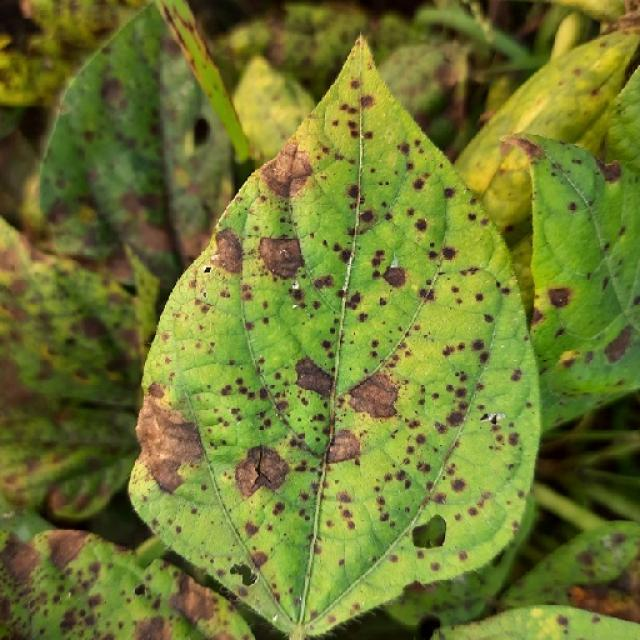Anthracnose: (43, 303, 129, 394), (135, 389, 207, 496), (260, 141, 314, 202), (234, 444, 291, 498), (42, 529, 103, 577), (2, 533, 50, 590), (346, 371, 400, 421), (356, 378, 406, 425), (258, 235, 304, 280), (293, 356, 334, 399), (210, 228, 245, 276), (148, 455, 189, 493), (326, 428, 362, 466), (602, 323, 633, 364), (77, 314, 112, 346), (502, 135, 543, 162), (132, 614, 172, 640), (234, 461, 260, 496), (230, 562, 259, 588), (59, 609, 88, 634), (382, 266, 408, 289), (546, 286, 572, 309), (600, 160, 622, 183), (312, 274, 335, 291), (146, 381, 165, 399), (370, 249, 387, 269), (250, 550, 268, 568), (243, 521, 259, 538), (359, 208, 375, 224), (441, 246, 457, 261), (347, 291, 362, 307), (450, 478, 466, 492), (359, 95, 375, 109), (336, 490, 352, 504), (346, 184, 360, 199), (290, 287, 304, 302), (414, 218, 428, 232), (413, 176, 427, 190), (133, 583, 147, 597), (507, 431, 520, 446), (397, 142, 410, 156), (556, 614, 569, 627), (471, 339, 485, 351), (443, 187, 456, 199), (350, 79, 361, 90), (430, 561, 441, 572), (567, 201, 577, 212)
Blackgram: (129, 39, 539, 636)
